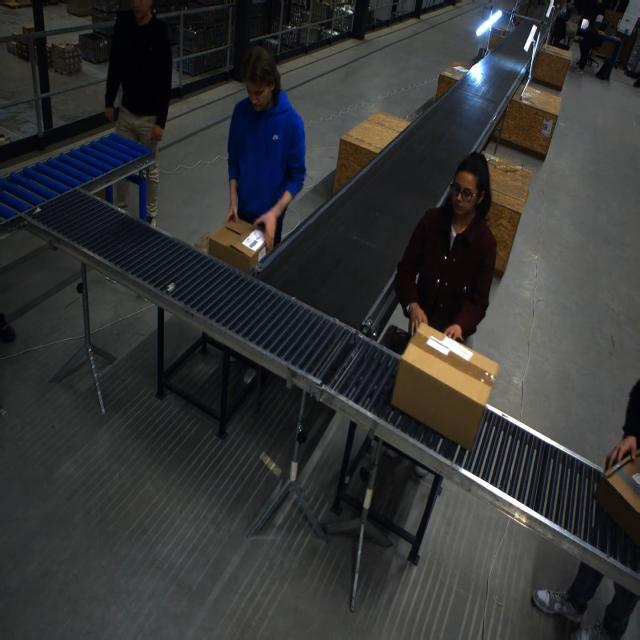box: (390, 325, 497, 446), (593, 446, 640, 560), (207, 217, 270, 271)
